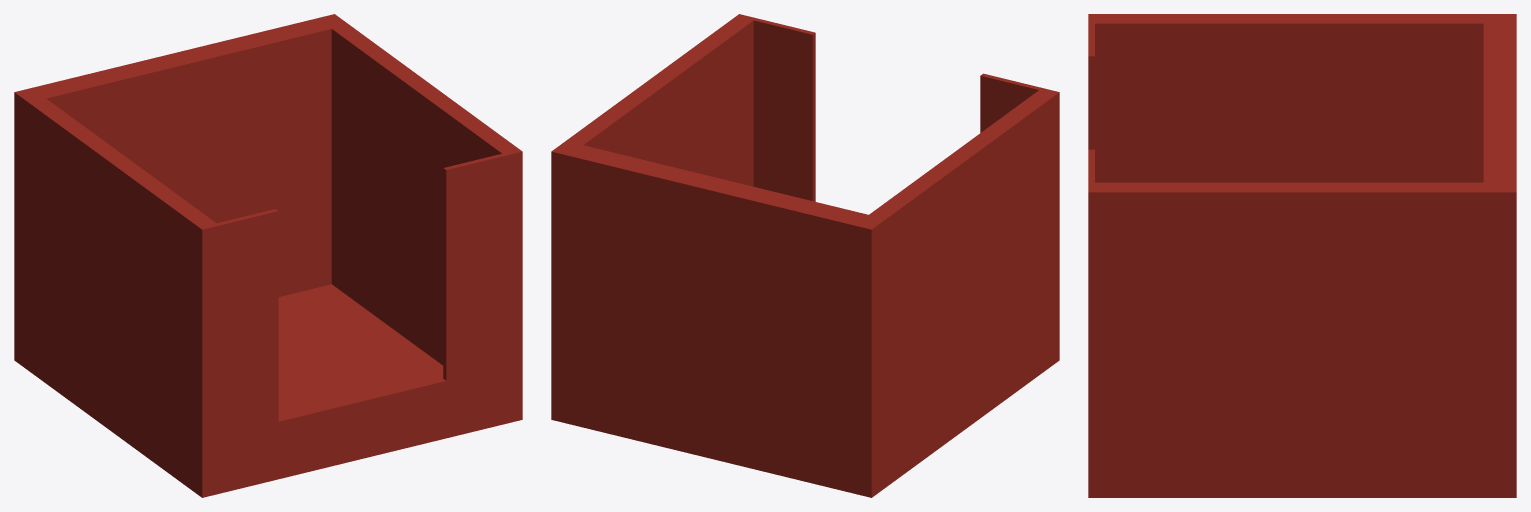
The model's file is Lays_Box.fbx.
3 renders of one model, left to right at view 1: azimuth 30°, elevation 25°; view 2: azimuth 150°, elevation 25°; view 3: azimuth 270°, elevation 25°, orthographic. The views are drawn at different scales.
Parts seen in each view (by area): view 1: FritoLay Box; view 2: FritoLay Box; view 3: FritoLay Box.
Boxes of the visible parts, x1,y1,x2,y2 form: FritoLay Box: [14, 14, 522, 497]; FritoLay Box: [551, 14, 1059, 497]; FritoLay Box: [1088, 14, 1516, 497].
Bounding box in the file's own units: 400 × 320 × 406.
